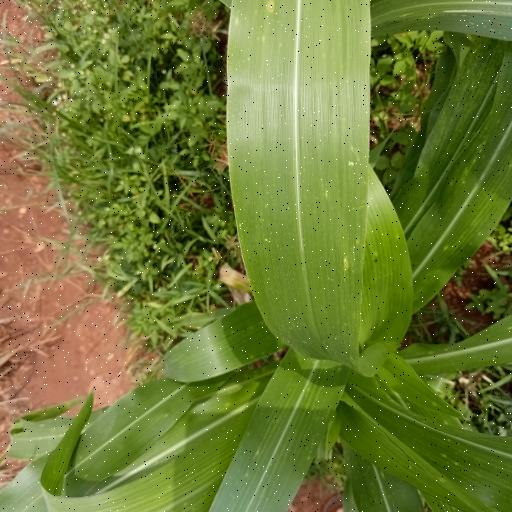Corn_Brown_Spots: (230, 0, 375, 372)
